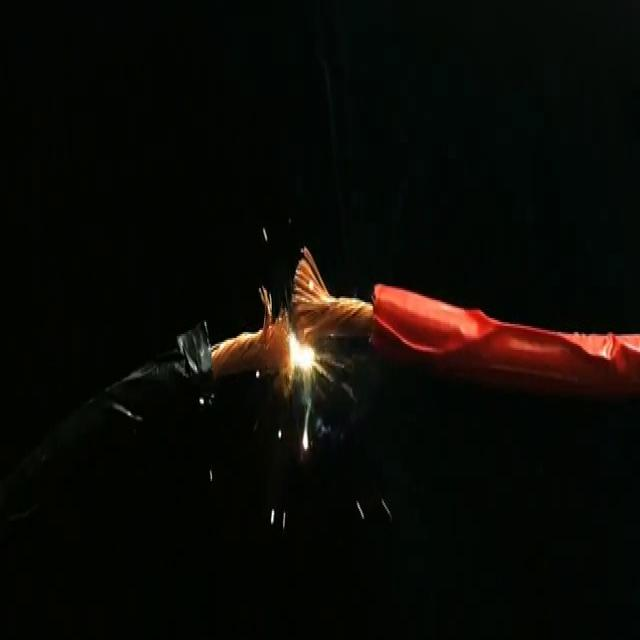fire: (280, 308, 334, 393)
